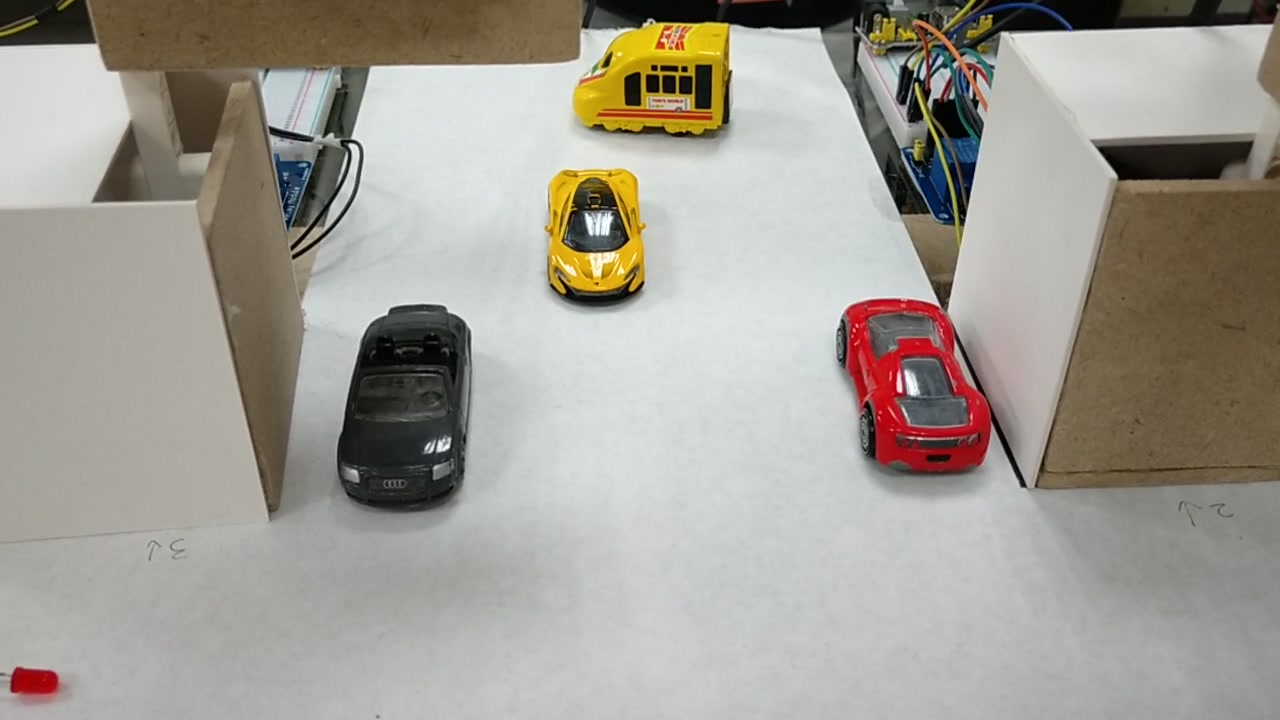car: (833, 294, 996, 478), (339, 298, 471, 494), (556, 173, 646, 301)
